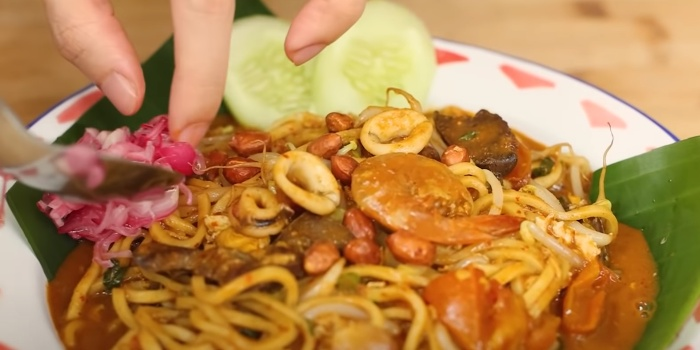mie_aceh: (60, 131, 658, 349)
